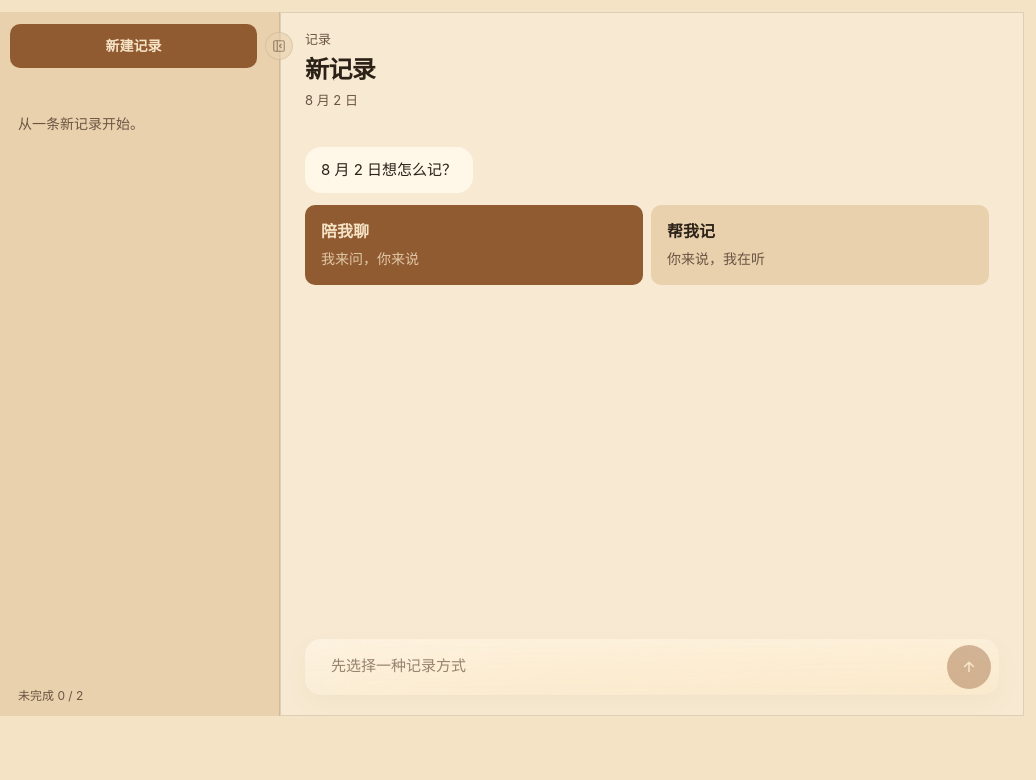
Test: Daily Light 两种记录模式自动化闭环 › capture 从选择模式、可靠保存到完成记录并返回当天
Click the button "帮我记 你来说，我在听" at [691, 231], box [651,205,989,285]
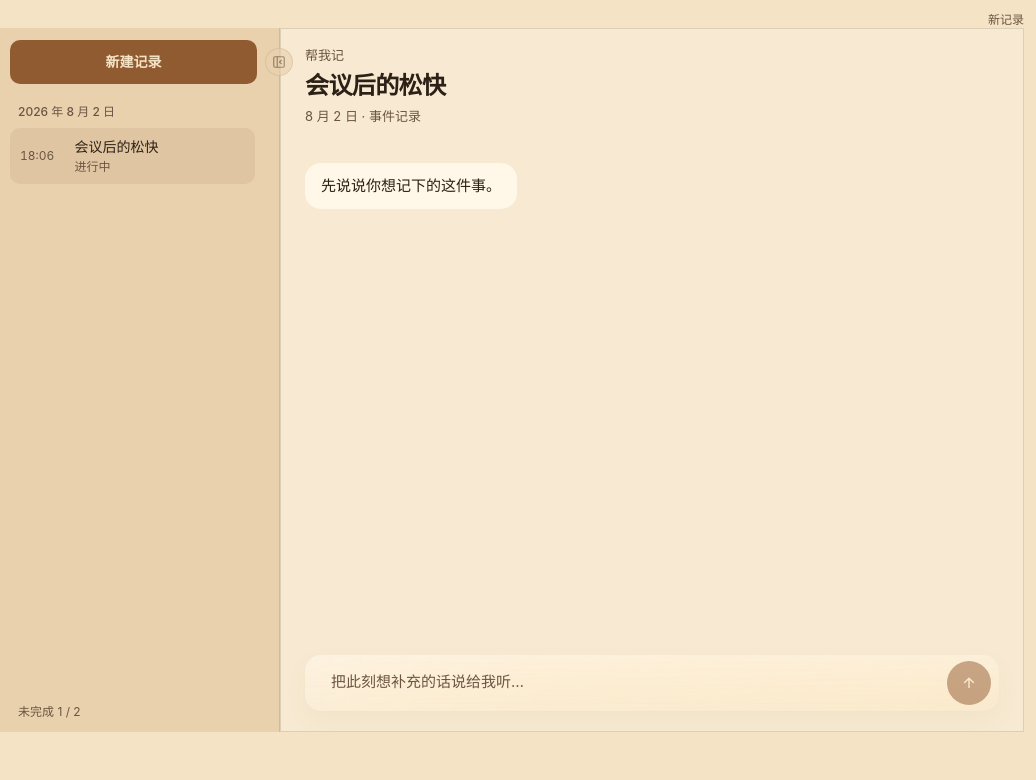
Check: the element with test id "event-centered-start-workspace" is gone
Check: the text box named "输入当前事件" is enabled
Type "会议结束后，我一下放松了。" into the text box named "输入当前事件" at [652, 683], box [315,661,989,705]
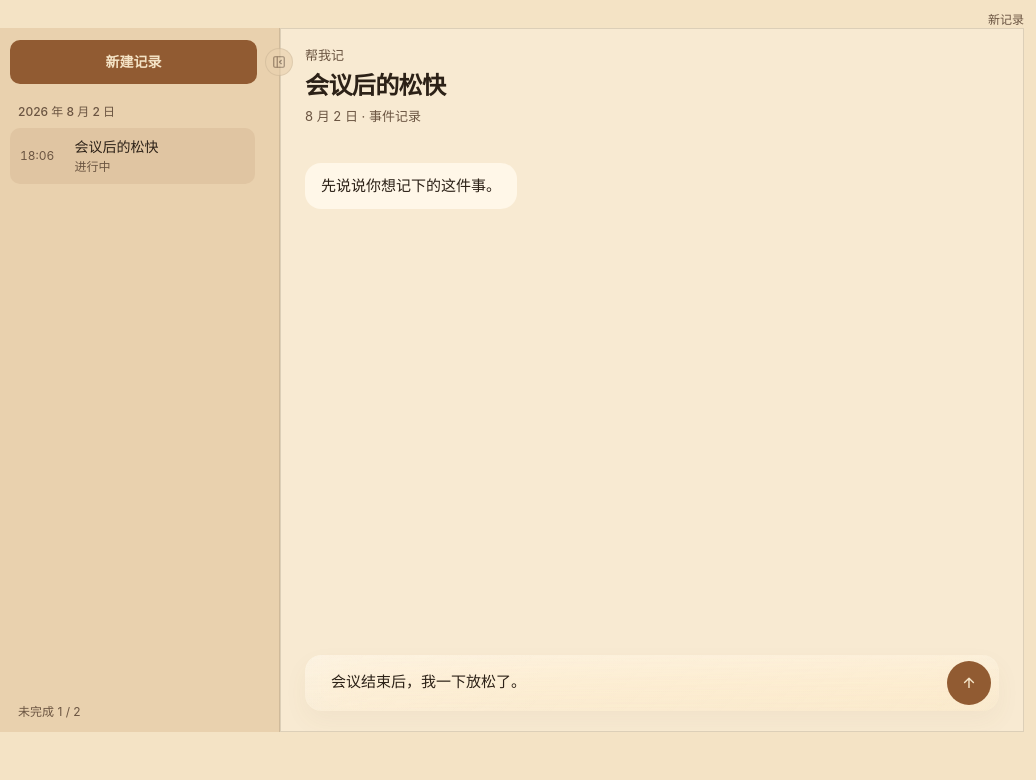
Check: the button named "发送" is enabled
Click the button named "发送" at [969, 683], box [947,661,991,705]
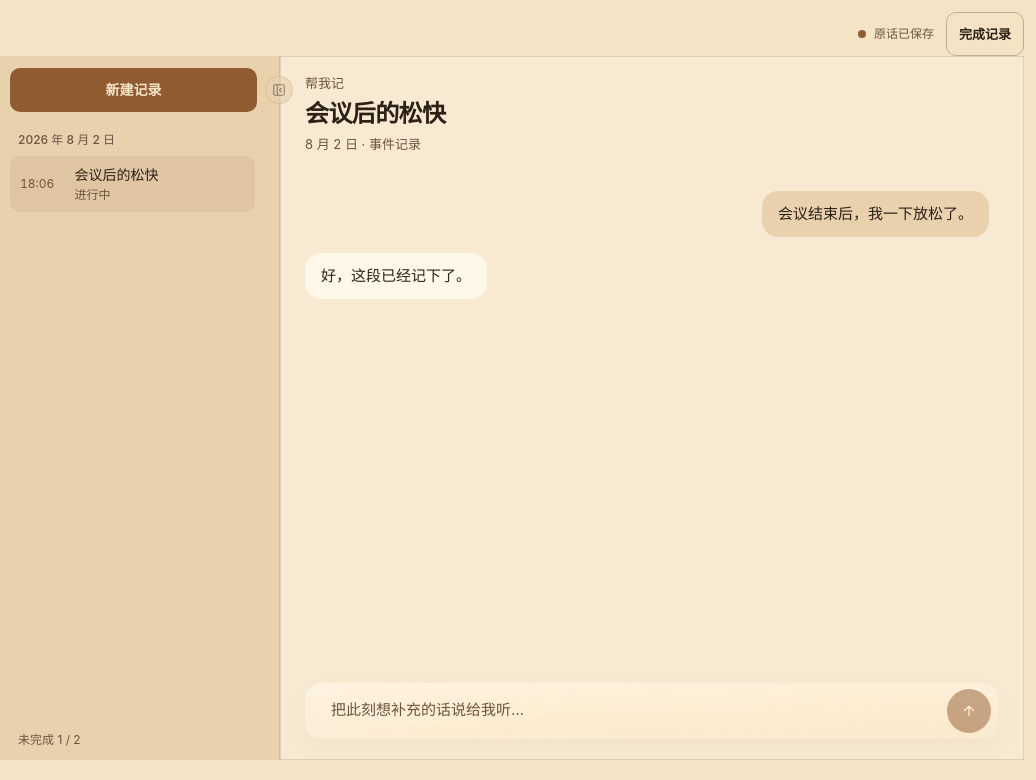
Check: the text "会议结束后，我一下放松了。" is shown once, box [778,201,973,227]
Check: the element with test id "event-centered-record-save-context" reads "原话已保存", box [874,26,934,41]
Check: the text "好，这段已经记下了。" is shown, box [321,263,471,289]
Click the button "完成记录" at [985, 34], box [946,12,1024,56]
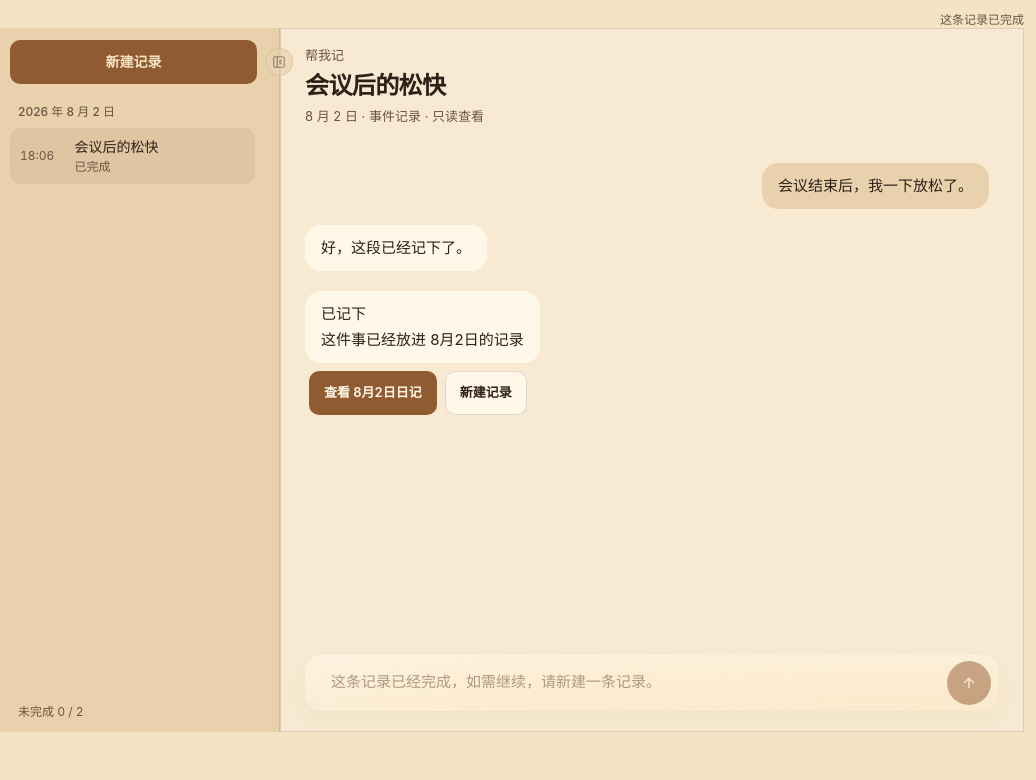
Check: the element with test id "event-centered-completion-inline" shows "已记下", box [321,304,524,349]
